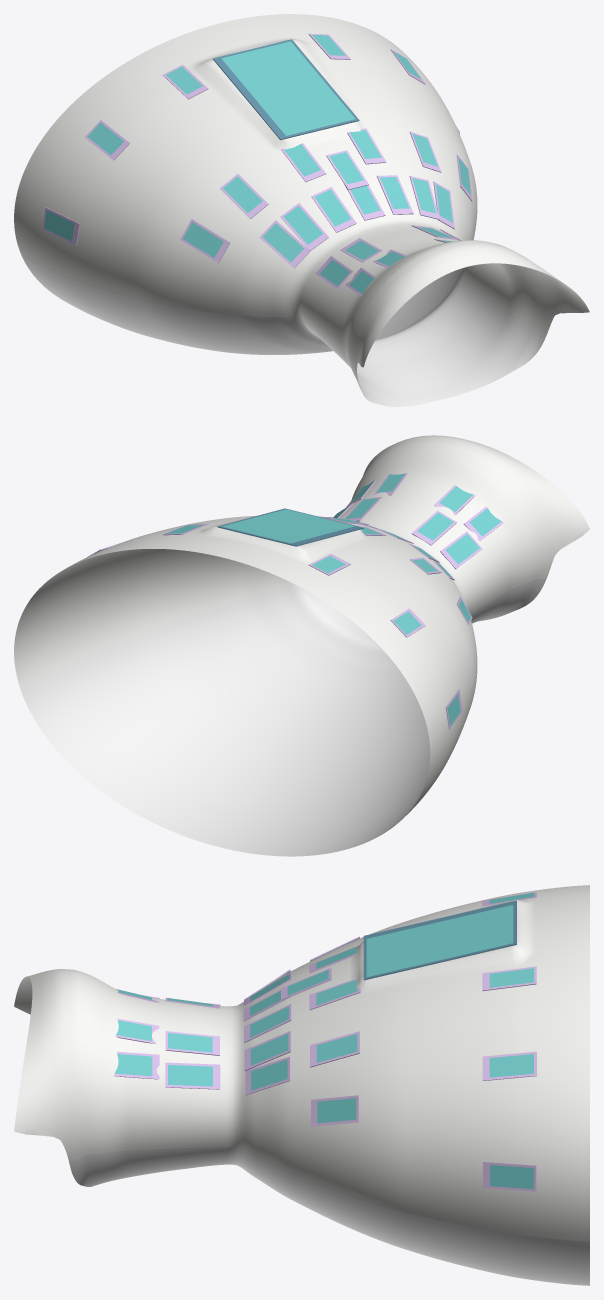
The model's file is dress-shell.glb.
3 views of the same model, one above another, from view 1: azimuth 30°, elevation 25°; view 2: azimuth 150°, elevation 25°; view 3: azimuth 270°, elevation 25° (orthographic). The views are drawn at different scales.
Parts seen in each view (by area): view 1: shell/FRONT, shell/BACK, panels/facet-750, panels/up-55~twin, panels/mid-70~twin, panels/up-40~twin, panels/mid-45~twin, panels/up-20~twin, panels/lo-55~twin, panels/cf-mid, panels/mid-15~twin, panels/lo-85~twin (+10 smaller); view 2: shell/BACK, shell/FRONT, panels/facet-750, panels/bod-a55~twin, panels/bod-a30~twin, panels/bod-b50~twin, panels/bod-b25~twin, panels/lo-55~twin; view 3: shell/FRONT, shell/BACK, panels/facet-750, panels/lo-85, panels/bod-a55, panels/lo-55, panels/mid-70, panels/up-55, panels/mid-45, panels/bod-a30, panels/bod-b50, panels/up-40 (+5 smaller).
Part boxes in pixels (x1,y1,x2,y2): shell/FRONT: (14,14,589,380); shell/BACK: (22,257,546,406); panels/facet-750: (213,39,359,139); panels/up-55~twin: (259,220,310,268); panels/mid-70~twin: (180,219,229,263); panels/up-40~twin: (280,203,328,250); panels/mid-45~twin: (220,174,268,218); panels/up-20~twin: (311,187,356,232); panels/lo-55~twin: (84,120,129,160); panels/cf-mid: (326,150,368,189); panels/mid-15~twin: (281,143,326,181); panels/lo-85~twin: (42,207,79,245); shell/BACK: (22,578,546,856); shell/FRONT: (14,435,589,791); panels/facet-750: (217,508,363,546); panels/bod-a55~twin: (440,531,482,569); panels/bod-a30~twin: (411,510,456,545); panels/bod-b50~twin: (464,506,503,540); panels/bod-b25~twin: (434,485,475,515); panels/lo-55~twin: (390,608,425,637); shell/FRONT: (14,885,589,1241); shell/BACK: (69,1147,589,1285); panels/facet-750: (363,900,516,980); panels/lo-85: (483,1161,536,1191); panels/bod-a55: (165,1062,220,1089); panels/lo-55: (482,1051,536,1080); panels/mid-70: (311,1095,358,1126); panels/up-55: (245,1056,290,1095); panels/mid-45: (310,1031,359,1067); panels/bod-a30: (165,1031,219,1055); panels/bod-b50: (113,1051,159,1079); panels/up-40: (244,1031,290,1070).
Size of the model in its own units: 586 by 391 by 621.
